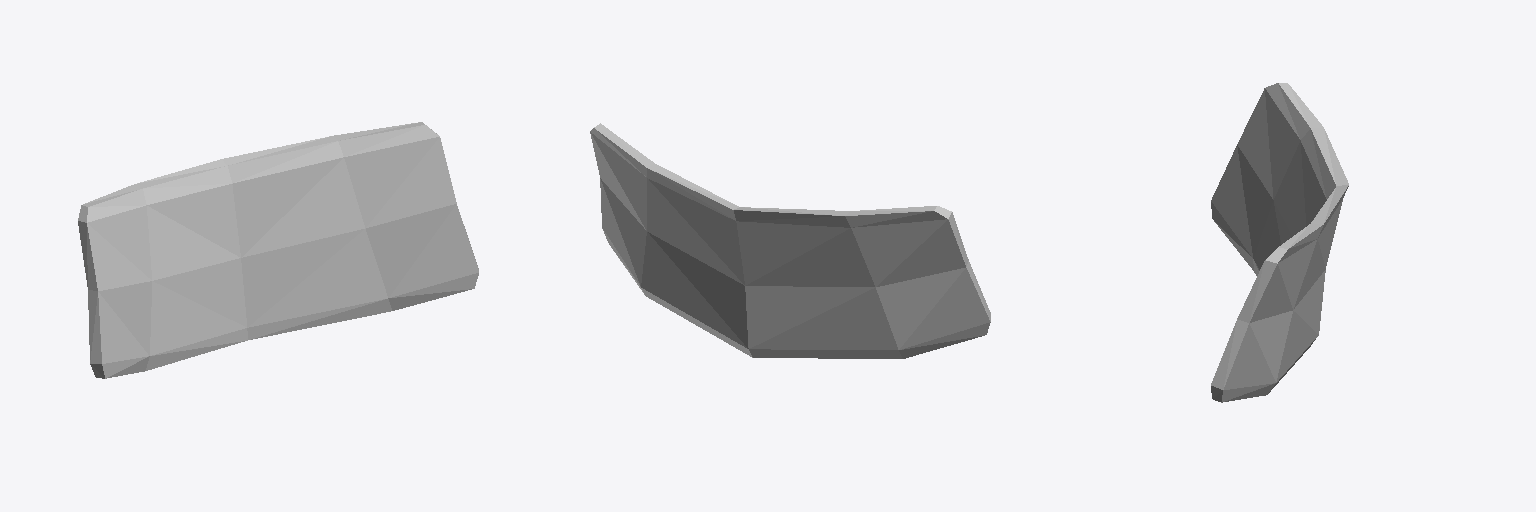
The model's file is Connective.Ligaments.Capsula_articularis_membrana_fibrosa_R.001.obj.
3 views of the same model, side by side, from view 1: azimuth 30°, elevation 25°; view 2: azimuth 150°, elevation 25°; view 3: azimuth 270°, elevation 25° (orthographic).
Visible parts, largest first — view 1: Connective:Ligaments:Capsula_articularis_membrana_fibrosa_R.001_; view 2: Connective:Ligaments:Capsula_articularis_membrana_fibrosa_R.001_; view 3: Connective:Ligaments:Capsula_articularis_membrana_fibrosa_R.001_.
Part boxes in pixels (x1,y1,x2,y2): Connective:Ligaments:Capsula_articularis_membrana_fibrosa_R.001_: (78, 122, 478, 378); Connective:Ligaments:Capsula_articularis_membrana_fibrosa_R.001_: (590, 123, 990, 358); Connective:Ligaments:Capsula_articularis_membrana_fibrosa_R.001_: (1211, 83, 1348, 402).
Size of the model in its own units: 0.1574 by 0.0704 by 0.0487.